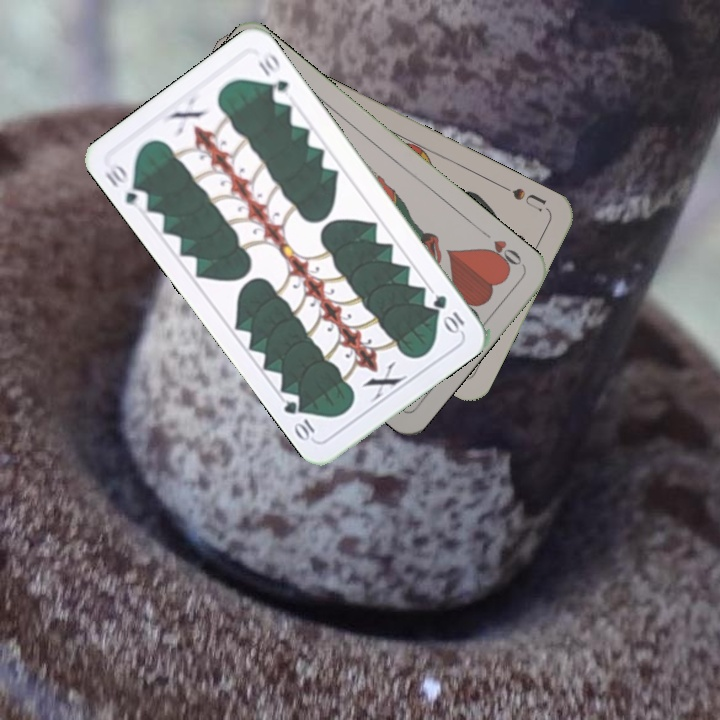G10: (101, 158, 152, 213), (429, 290, 467, 336)
HO: (477, 226, 525, 273)
SU: (497, 180, 552, 214)
